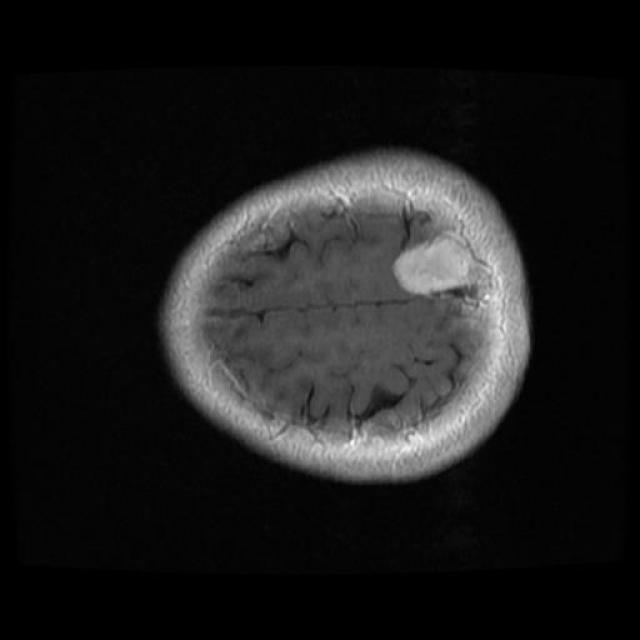Meningioma: (393, 235, 477, 295)
